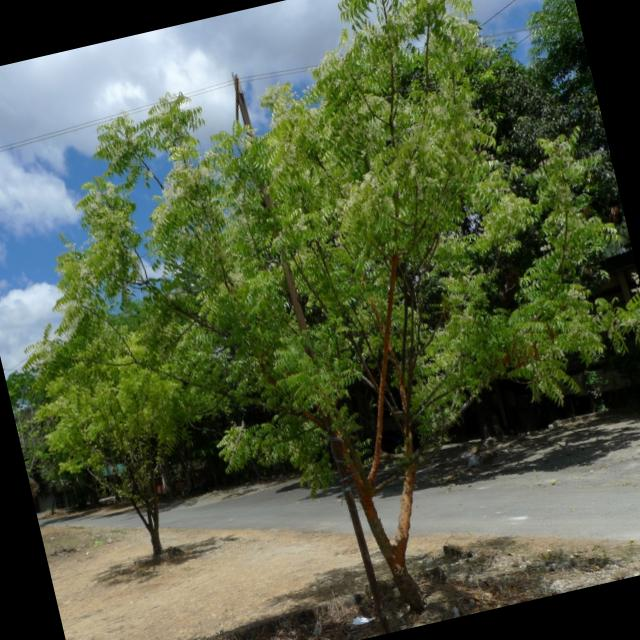Medicinal-Neem: (92, 62, 388, 333), (333, 0, 534, 278), (406, 241, 640, 448), (16, 317, 201, 473), (212, 289, 366, 432)
